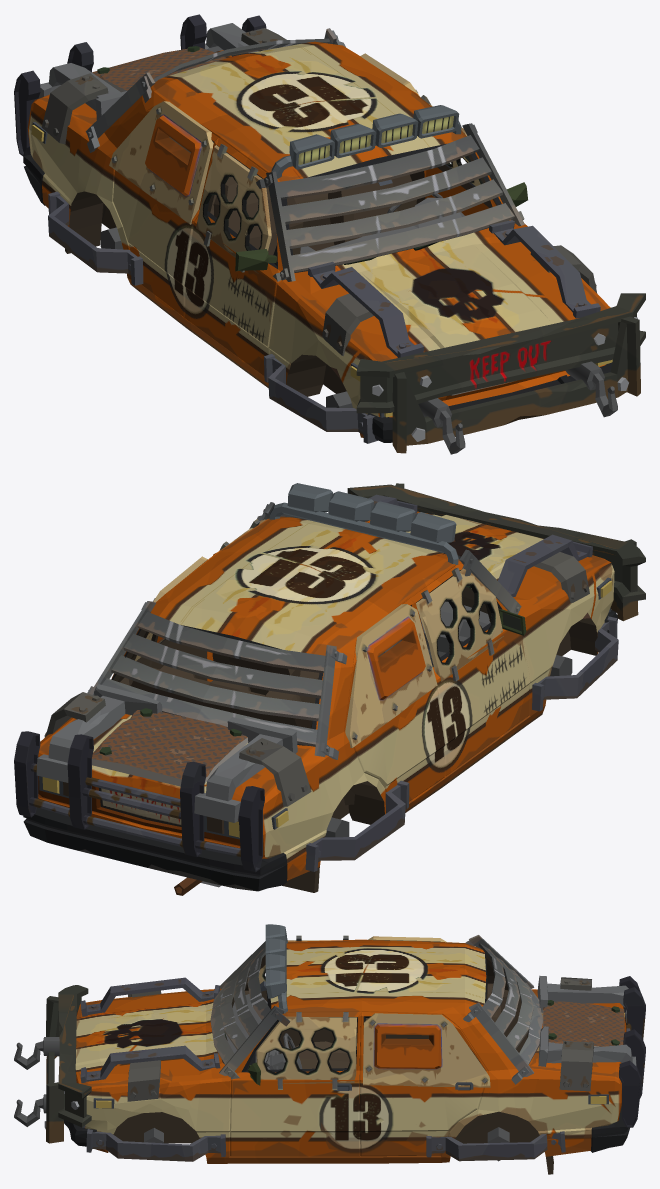
File: ZRC_Car_Medium_V2_Body.fbx
3 views of the same model, one above another, from view 1: azimuth 30°, elevation 25°; view 2: azimuth 150°, elevation 25°; view 3: azimuth 270°, elevation 25° (orthographic). The views are drawn at different scales.
Visible parts, largest first — view 1: Body_car1, Puerta_Piloto; view 2: Body_car1; view 3: Body_car1, Puerta_Piloto.
Part boxes in pixels (x1,y1,x2,y2): Body_car1: (14, 14, 645, 454); Puerta_Piloto: (413, 91, 527, 215); Body_car1: (14, 483, 645, 895); Body_car1: (14, 924, 645, 1174); Puerta_Piloto: (229, 1012, 361, 1163).
Size of the model in its own units: 225 by 156 by 508.
1 material, 1 textured.
